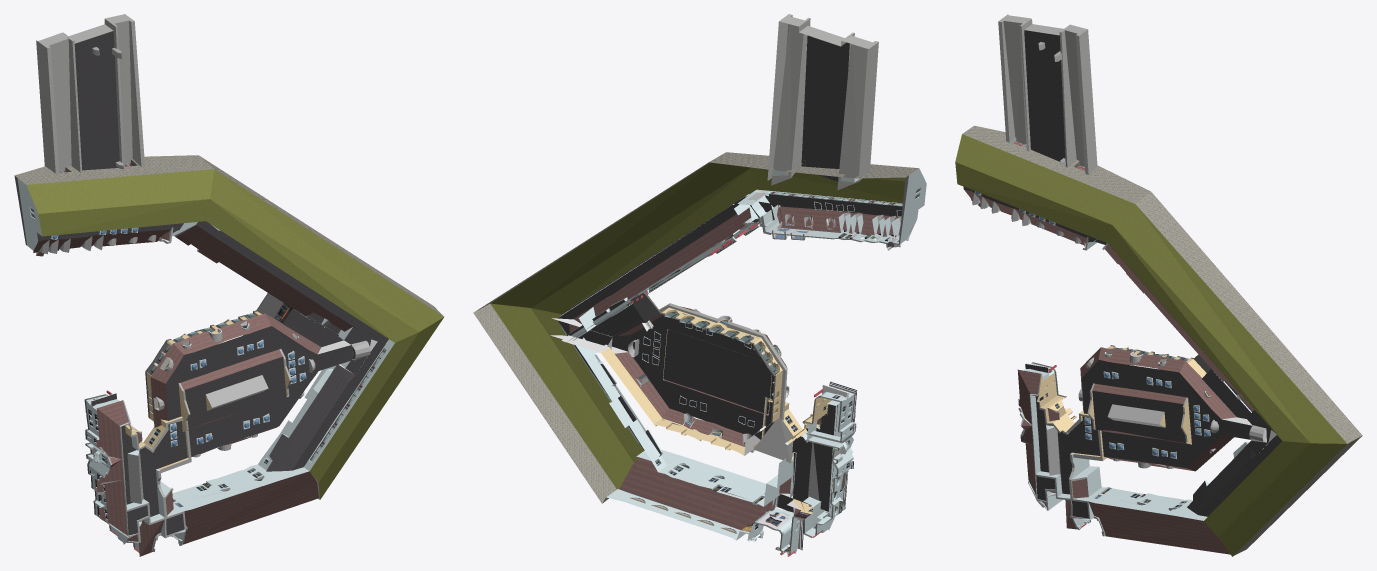
Rendered from Aia_20_1-origo.obj.
3 views of the same model, side by side, from view 1: azimuth 30°, elevation 25°; view 2: azimuth 150°, elevation 25°; view 3: azimuth 330°, elevation 25° (orthographic). The views are drawn at different scales.
Visible parts, largest first — view 1: Aia_20; view 2: Aia_20; view 3: Aia_20.
Boxes of the visible parts, x1,y1,x2,y2 form: Aia_20: [14, 14, 443, 556]; Aia_20: [473, 14, 926, 556]; Aia_20: [955, 14, 1362, 556].
Size of the model in its own units: 117 by 140 by 16.55.
